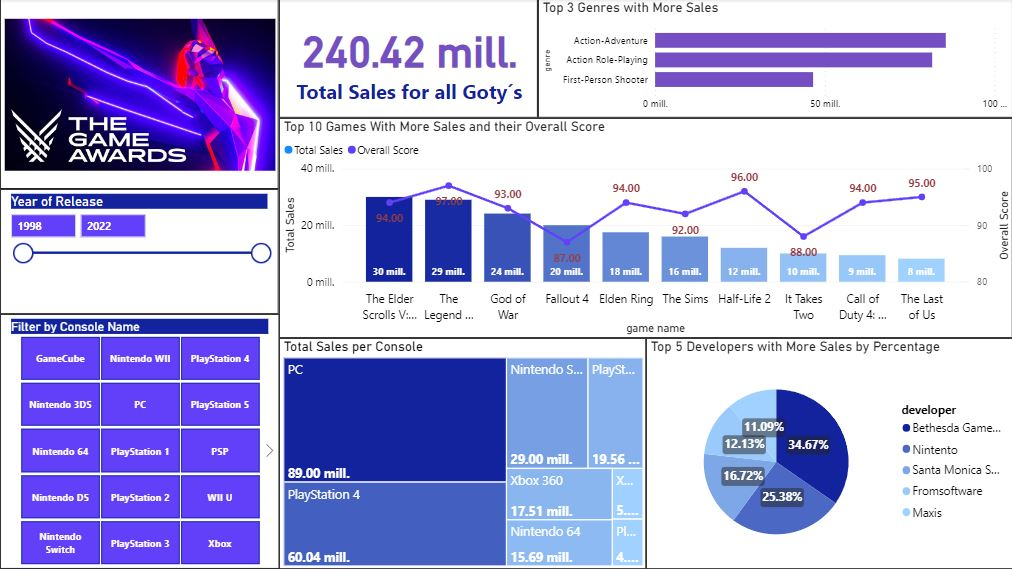

The page's visual inventory and layout, read from the dashboard file:
{"tool":"powerbi","page":{"name":"Página 1","canvas":[1280,720],"ordinal":0},"visuals":[{"type":"image","box":[0,0,352.1,240.3],"z":0},{"type":"slicer","fields":{"Values":["game.year_of_release"]},"box":[0,240.3,352.1,158.1],"z":1000},{"type":"slicer","fields":{"Values":["consoles.console"]},"box":[0,398,352.5,322.2],"z":2000},{"type":"lineStackedColumnComboChart","title":"Top 10  Games With More Sales and their Overall Score","fields":{"Category":["game.game name"],"Y":["Sum(game.sales)"],"Y2":["Avg(game.score)"]},"box":[352.5,150.4,927.5,278],"z":3000},{"type":"treemap","title":"Total Sales per Console","fields":{"Values":["Sum(game.sales)"],"Group":["consoles.console"]},"box":[352.5,428.4,463.7,291.9],"z":4000},{"type":"card","title":"Total Sales for all GOTY´S","fields":{"Values":["Sum(game.sales)"]},"box":[352.5,0,327.3,150.4],"z":5000},{"type":"pieChart","title":"Top 5 Developers with More Sales by Percentage","fields":{"Category":["developer.developer"],"Y":["Sum(game.sales)"]},"box":[816.3,428.4,463.7,291.9],"z":6000},{"type":"barChart","title":"Top 3 Genres with More Sales","fields":{"Category":["genre.genre"],"Y":["Sum(game.sales)"]},"box":[679.8,0,600.2,150.4],"z":7000}]}

Visuals, with their boxes in screenshot pixels (x1, y1, x2, y2), scaled from the page's 1280x720 canvas onto the 1012x569 screenshot:
image: bbox=[0, 0, 278, 190]
slicer - game.year_of_release: bbox=[0, 190, 278, 315]
slicer - consoles.console: bbox=[0, 315, 279, 568]
"Top 10  Games With More Sales and their Overall Score" lineStackedColumnComboChart: bbox=[279, 119, 1011, 339]
"Total Sales per Console" treemap: bbox=[279, 339, 645, 568]
"Total Sales for all GOTY´S" card: bbox=[279, 0, 537, 119]
"Top 5 Developers with More Sales by Percentage" pieChart: bbox=[645, 339, 1011, 568]
"Top 3 Genres with More Sales" barChart: bbox=[537, 0, 1011, 119]
